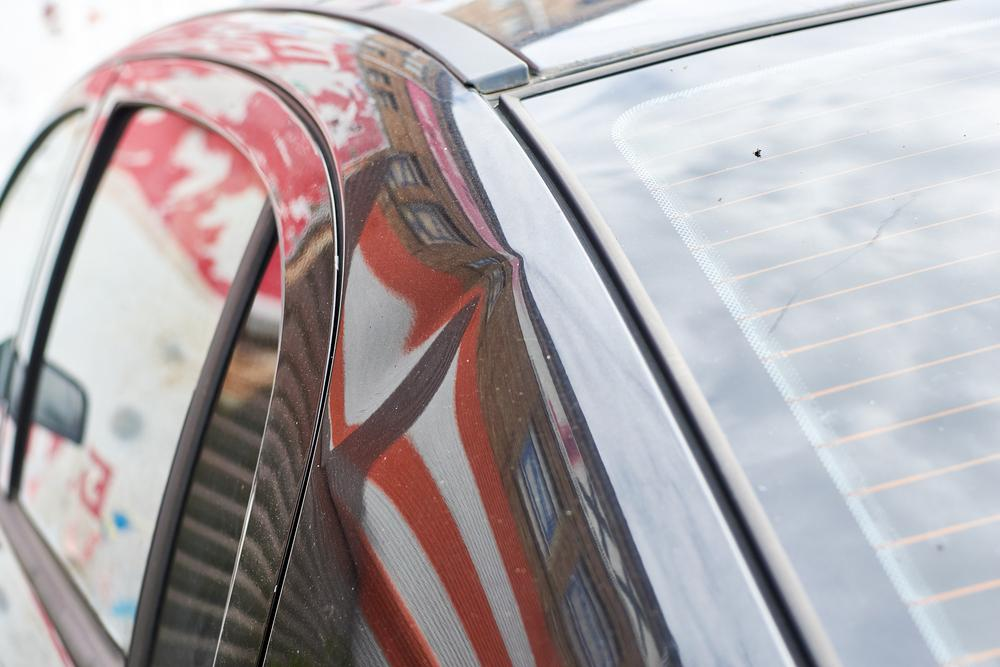dent: (330, 254, 520, 515)
